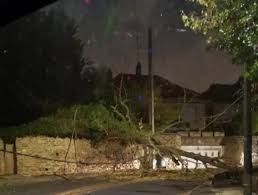obstacle: (126, 128, 245, 186)
